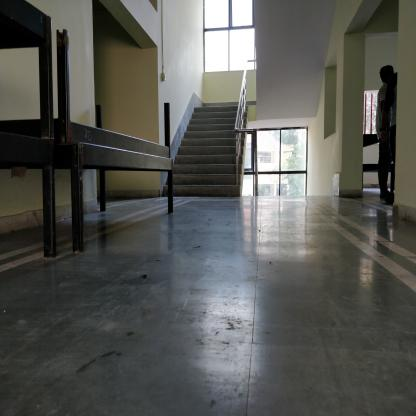stairs: (194, 107, 234, 198)
